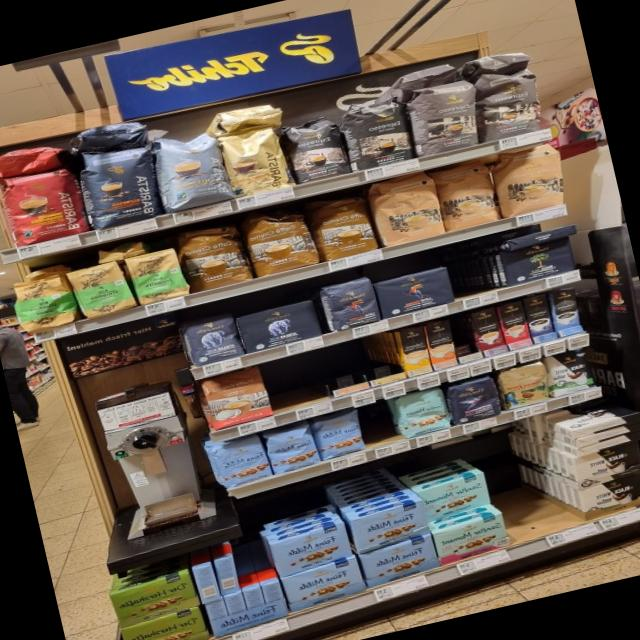AB Bohne: (179, 312, 246, 367)
AB Gemahlen: (233, 297, 326, 354)
Athiopien Bohne: (4, 271, 83, 337)
Athiopien Gemahlen: (63, 260, 142, 322), (119, 245, 197, 306)
BM Gemahlen: (495, 234, 581, 287)
BW Bohne: (542, 346, 599, 399)
BW Gemahlen: (570, 438, 640, 490), (579, 471, 640, 513)
Barista CB: (208, 120, 300, 199)
Barista Espresso: (69, 140, 167, 232)
Barista Kolumbien: (0, 162, 93, 249)
C Fino Bohne: (442, 372, 505, 427)
CC Mild: (484, 139, 572, 220), (360, 169, 449, 249), (429, 157, 502, 233)
CC Vollmundig: (194, 364, 279, 431)
CC Vollmundig 36 Pads: (234, 201, 325, 279), (170, 216, 258, 293), (301, 187, 383, 263)
Colombia BB Bohne: (493, 358, 554, 412)
Empty Shelf: (499, 482, 586, 543), (259, 352, 328, 412), (441, 243, 507, 300), (311, 340, 367, 392), (355, 397, 408, 449), (355, 331, 405, 381), (448, 313, 480, 356)
Espresso Aromatisch: (400, 74, 490, 158), (468, 64, 552, 143)
Espresso Kraftig: (333, 94, 418, 172), (275, 109, 359, 186)
FM Bohne: (207, 431, 274, 488), (258, 421, 323, 475), (307, 408, 370, 462)
FM Gemahlen: (280, 556, 367, 612), (357, 532, 443, 588), (270, 521, 354, 578), (350, 499, 432, 553)
Herzhatfe Mundig: (107, 571, 199, 628), (119, 606, 210, 640)
LG Bohne: (313, 273, 385, 333)
LG Gemahlen: (371, 263, 458, 318)
SM Bohne: (394, 387, 454, 438)
SM Gemahlen: (432, 511, 514, 565), (415, 472, 493, 522)
Simo CCMild bigpack: (395, 325, 433, 377)
Simo CCVollmundig bigpack: (422, 318, 459, 370)
Simo Es Brazil: (495, 298, 533, 351)
Simo Es Caramel: (467, 305, 510, 358)
Simo Es Kraft: (520, 292, 559, 344)
Simo Es Vanilla: (549, 287, 584, 337)
